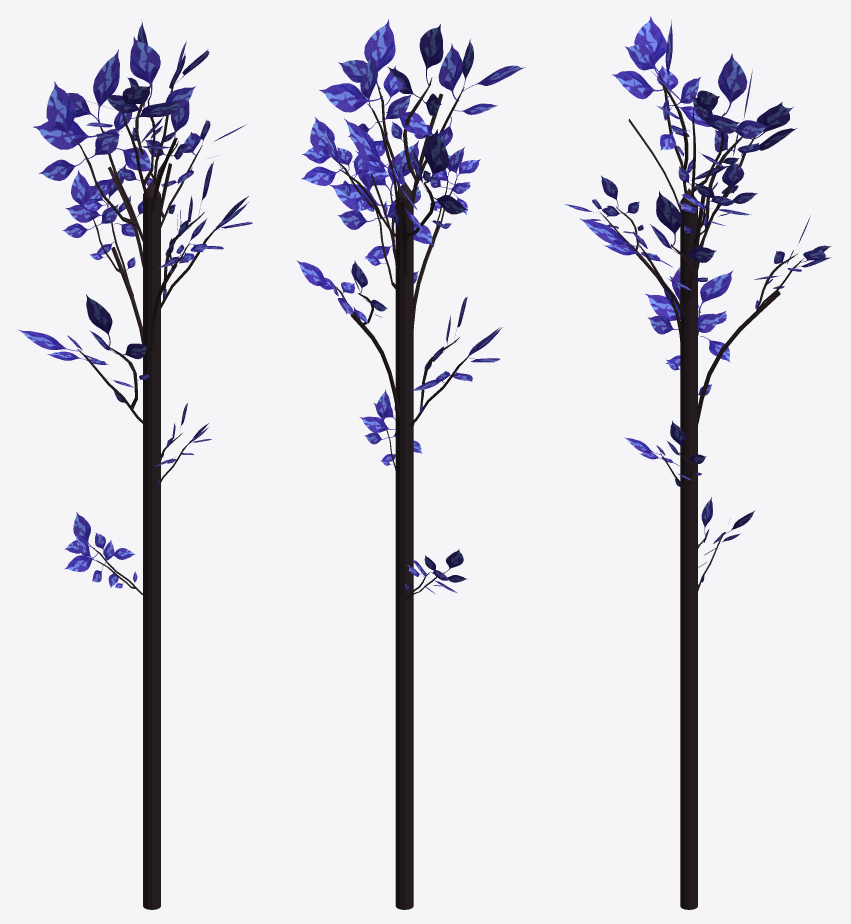
File: purpletree16.fbx
The picture shows the model from 3 angles, left to right: view 1: azimuth 30°, elevation 25°; view 2: azimuth 150°, elevation 25°; view 3: azimuth 270°, elevation 25°; orthographic projection.
Visible parts, largest first — view 1: pCylinder1067; view 2: pCylinder1067; view 3: pCylinder1067.
Boxes of the visible parts, <box> form: pCylinder1067: <box>17,20,252,909</box>; pCylinder1067: <box>296,19,525,909</box>; pCylinder1067: <box>564,16,831,909</box>.
Size of the model in its own units: 9.45 by 36 by 10.22.
